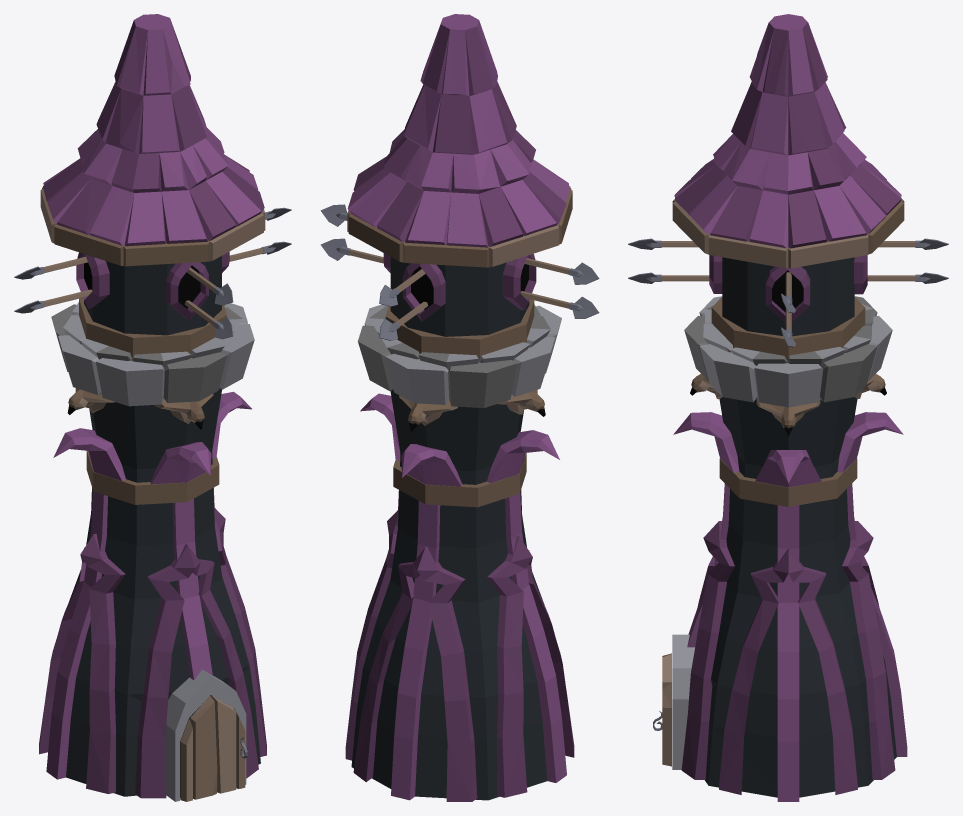
File: Archer_LVL2.fbx
3 views of the same model, side by side, from view 1: azimuth 30°, elevation 25°; view 2: azimuth 150°, elevation 25°; view 3: azimuth 270°, elevation 25° (orthographic).
Parts seen in each view (by area): view 1: archer_tower_LVL_2, archer_tower_LVL_2.001; view 2: archer_tower_LVL_2, archer_tower_LVL_2.001; view 3: archer_tower_LVL_2, archer_tower_LVL_2.001.
Part boxes in pixels (x1,y1,x2,y2): archer_tower_LVL_2: (39,14,266,801); archer_tower_LVL_2.001: (14,207,291,339); archer_tower_LVL_2: (345,14,574,801); archer_tower_LVL_2.001: (320,204,599,340); archer_tower_LVL_2: (653,14,907,801); archer_tower_LVL_2.001: (628,238,948,347).
Bounding box in the file's own units: 595 × 1494 × 595.
